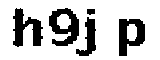9: (45, 6, 80, 48)
h: (6, 5, 43, 52)
j: (78, 7, 101, 60)
p: (115, 14, 148, 60)
